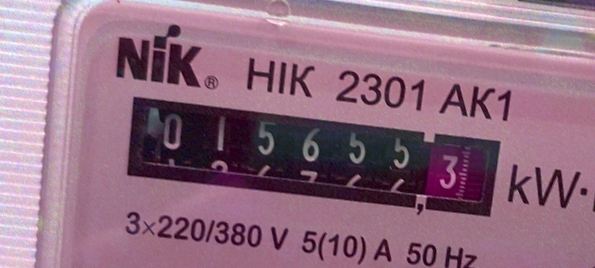0: (156, 109, 185, 152)
1: (208, 113, 231, 154)
3: (435, 152, 458, 190)
5: (250, 119, 278, 157), (342, 132, 369, 166), (389, 136, 411, 171)
6: (296, 126, 323, 164)
screen: (107, 80, 515, 234)
